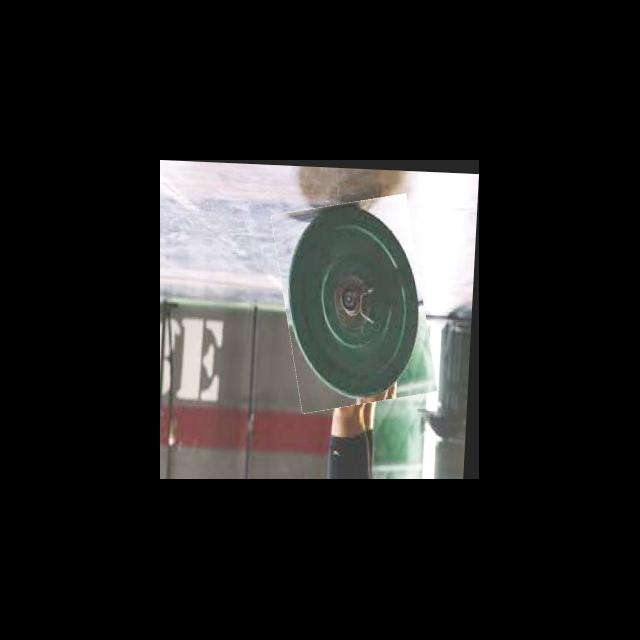barbell: (274, 193, 438, 410)
